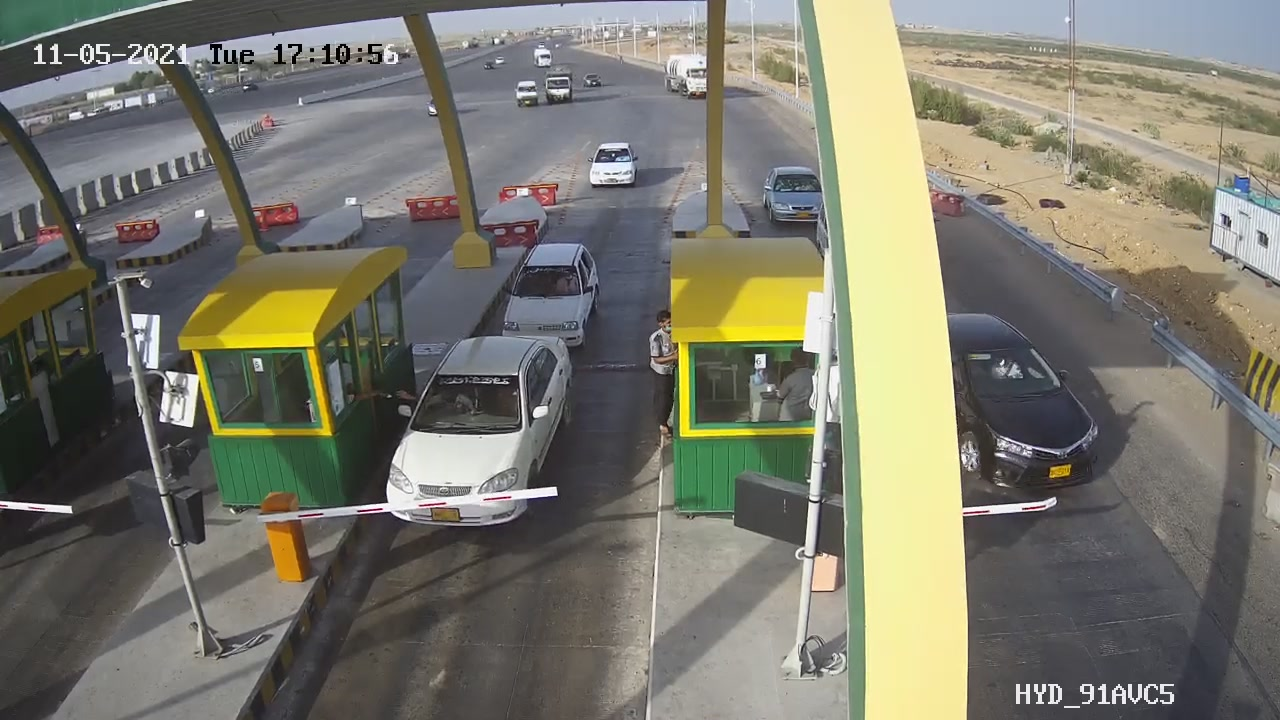F1: (373, 317, 594, 548), (498, 234, 607, 359)
